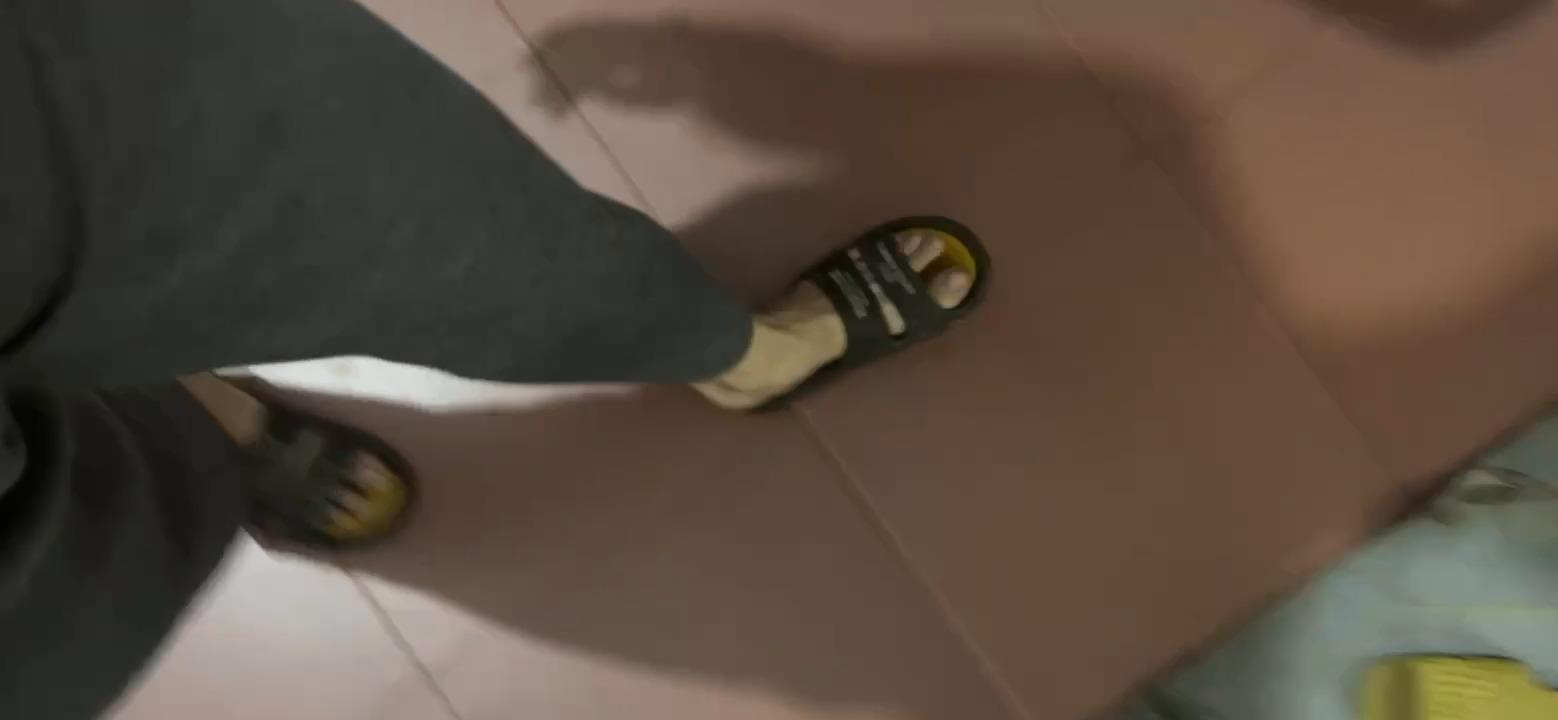no-boot: (699, 193, 989, 393), (177, 369, 416, 550)
